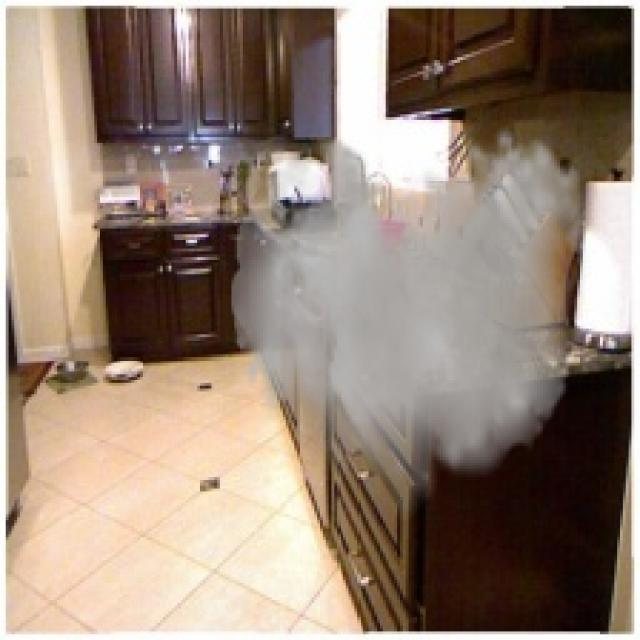Smoke: (231, 126, 586, 528)
